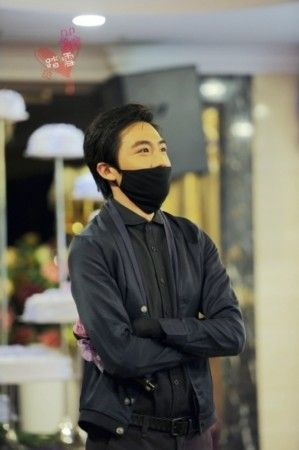yes_mask: (82, 100, 177, 215)
